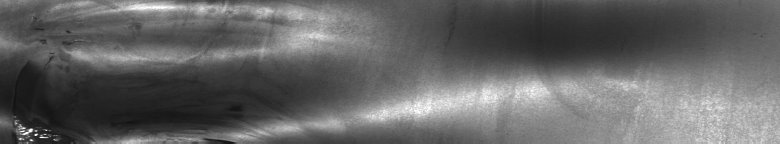ke: (4, 7, 294, 136)
